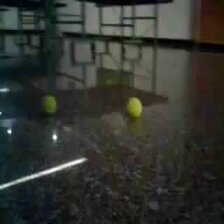tennis: (125, 96, 145, 119), (40, 95, 59, 115)
